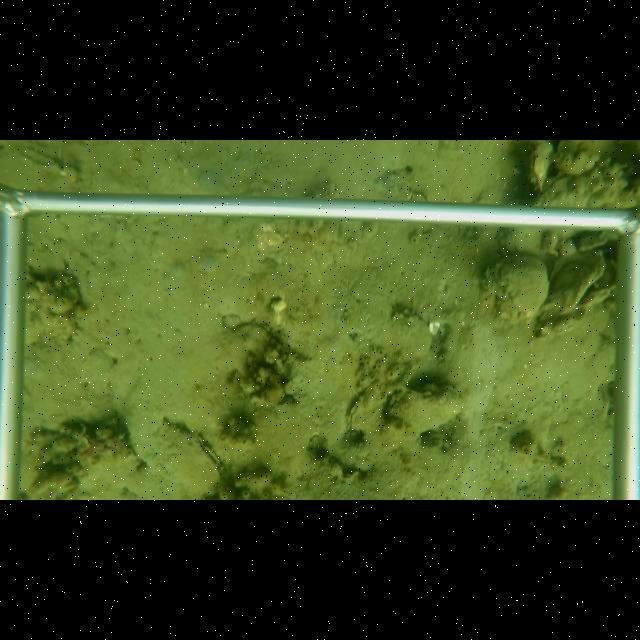Oyster-Closed: (161, 420, 225, 498), (492, 252, 550, 318), (389, 383, 463, 433), (346, 389, 380, 431)
Oyster-Open: (542, 248, 620, 336), (528, 140, 552, 194)
